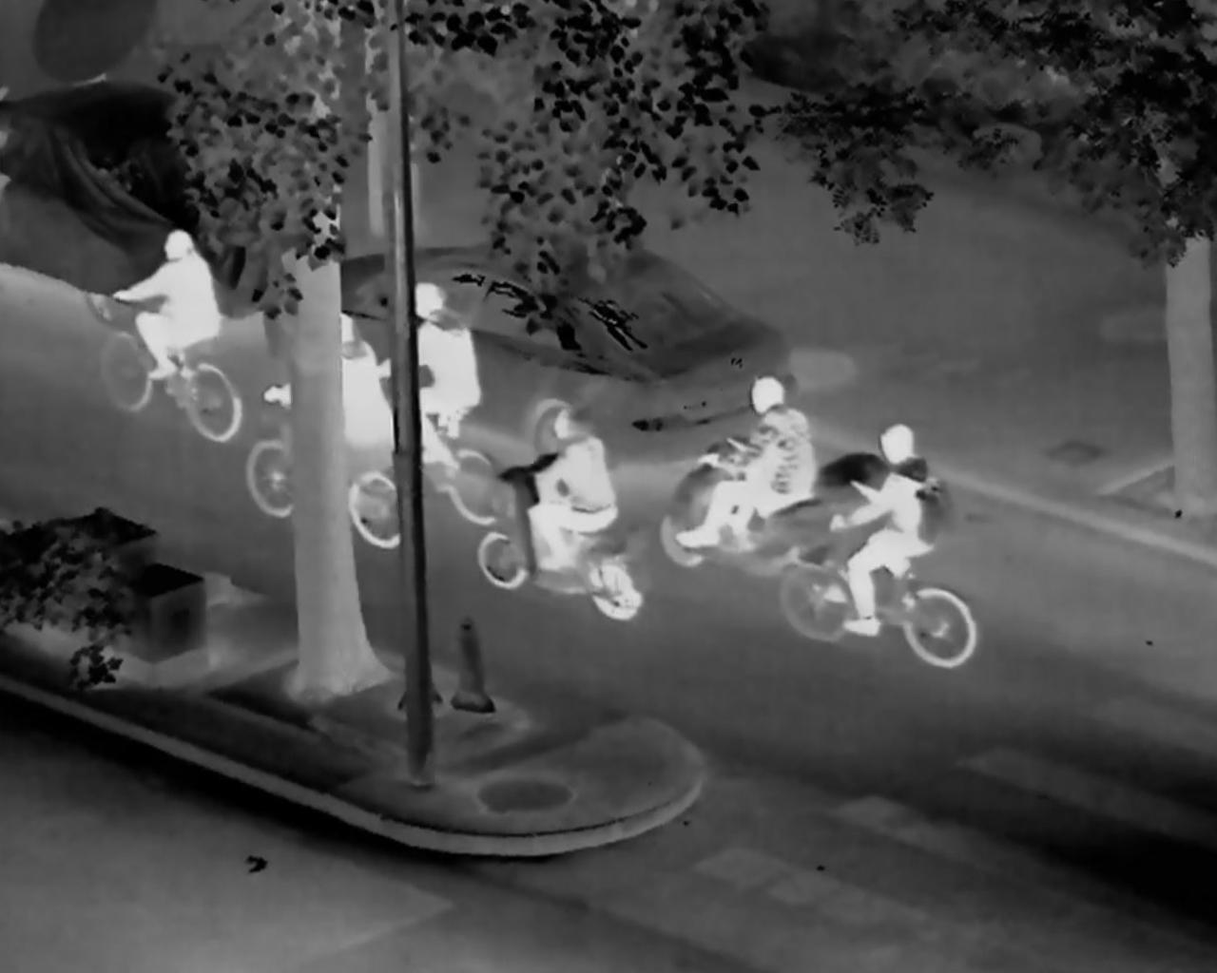person: (674, 377, 814, 547), (831, 422, 939, 636), (263, 315, 396, 483), (377, 282, 481, 470), (115, 227, 225, 387), (516, 408, 616, 571)
